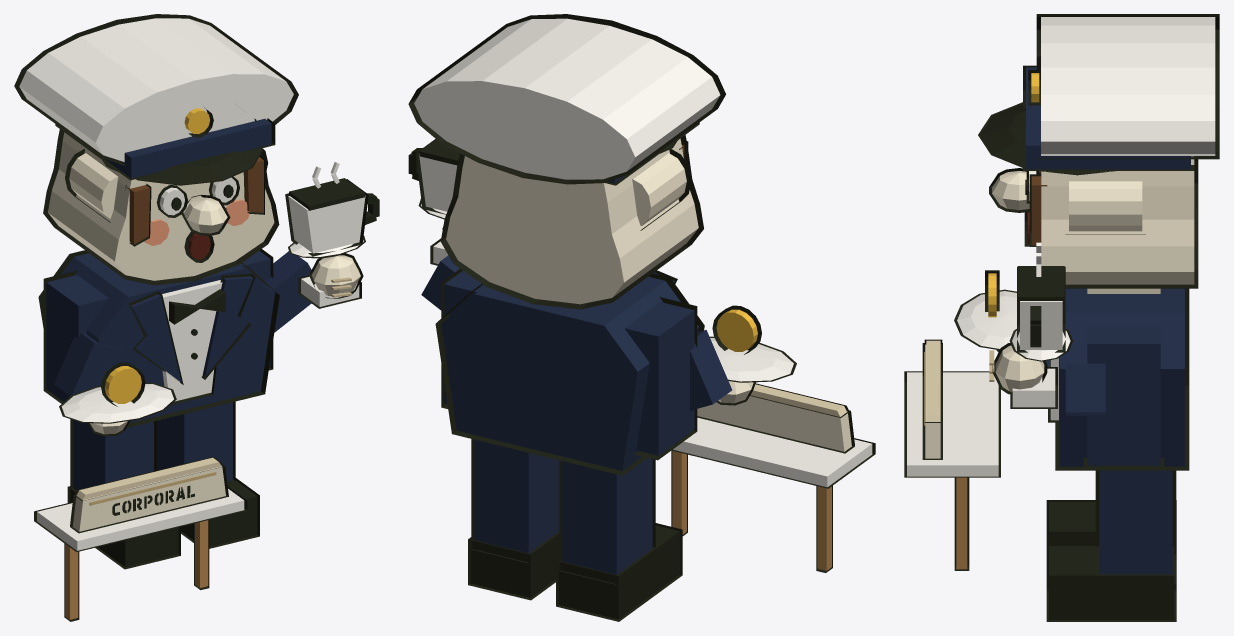
The picture shows the model from 3 angles, left to right: view 1: azimuth 30°, elevation 25°; view 2: azimuth 150°, elevation 25°; view 3: azimuth 270°, elevation 25°; orthographic projection. The views are drawn at different scales.
Visible parts, largest first — view 1: Link Marine; view 2: Link Marine; view 3: Link Marine.
Boxes of the visible parts, left/top/right/bottom form: Link Marine: left=14, top=14, right=379, bottom=621; Link Marine: left=408, top=14, right=875, bottom=621; Link Marine: left=904, top=14, right=1219, bottom=621.
Bounding box in the file's own units: 0.7725 × 0.9836 × 0.5155.
